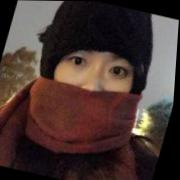WRONG: (29, 32, 152, 151)
